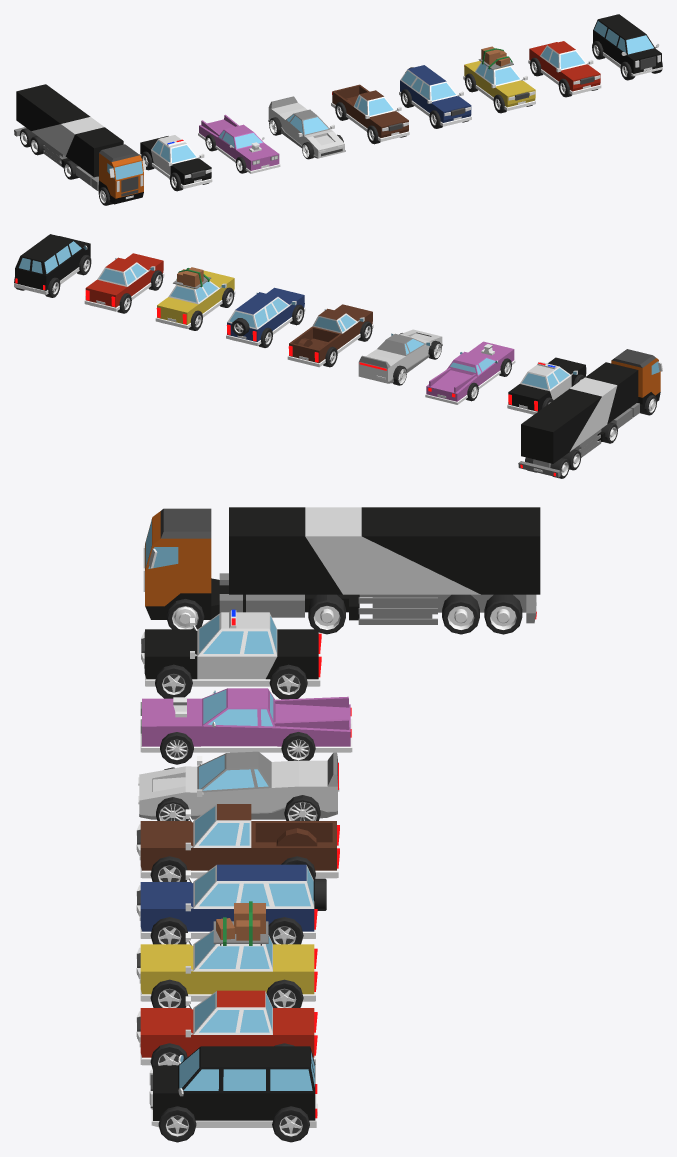
File: PACK_cars.fbx
3 views of the same model, one above another, from view 1: azimuth 30°, elevation 25°; view 2: azimuth 150°, elevation 25°; view 3: azimuth 270°, elevation 25° (orthographic). The views are drawn at different scales.
Parts seen in each view (by area): view 1: lorry cart, van, Plane.001, wheel_standart.002, wheel_standart.003, wheel_standart.004, Plane, car_model_5, body, body.004; view 2: lorry cart, van, wheel_standart.004, wheel_standart.002, car_model_5, wheel_standart.003, body, Plane, body.004, Plane.001; view 3: lorry cart, van, car_model_5, body.004, wheel_standart.002, Plane.001, wheel_standart.003, wheel_standart.004, Plane, body.
Boxes of the visible parts, x1=… form: lorry cart: x1=14, y1=84, x2=123, y2=177; van: x1=592, y1=14, x2=662, y2=80; Plane.001: x1=61, y1=144, x2=145, y2=205; wheel_standart.002: x1=463, y1=46, x2=535, y2=113; wheel_standart.003: x1=399, y1=65, x2=471, y2=128; wheel_standart.004: x1=331, y1=84, x2=409, y2=144; Plane: x1=268, y1=96, x2=345, y2=159; car_model_5: x1=198, y1=114, x2=280, y2=173; body: x1=528, y1=41, x2=601, y2=97; body.004: x1=139, y1=135, x2=212, y2=191; lorry cart: x1=518, y1=362, x2=638, y2=478; van: x1=14, y1=234, x2=91, y2=297; wheel_standart.004: x1=287, y1=304, x2=373, y2=367; wheel_standart.002: x1=155, y1=267, x2=235, y2=330; car_model_5: x1=425, y1=341, x2=515, y2=404; wheel_standart.003: x1=226, y1=287, x2=305, y2=347; body: x1=84, y1=253, x2=164, y2=313; Plane: x1=358, y1=329, x2=442, y2=385; body.004: x1=507, y1=357, x2=586, y2=414; Plane.001: x1=597, y1=349, x2=662, y2=443; lorry cart: x1=229, y1=507, x2=540, y2=634; van: x1=149, y1=1046, x2=317, y2=1142; car_model_5: x1=140, y1=688, x2=352, y2=764; body.004: x1=141, y1=609, x2=321, y2=699; wheel_standart.002: x1=136, y1=901, x2=317, y2=1007; Plane.001: x1=143, y1=508, x2=359, y2=634; wheel_standart.003: x1=136, y1=864, x2=326, y2=944; wheel_standart.004: x1=136, y1=804, x2=339, y2=881; Plane: x1=138, y1=751, x2=339, y2=820; body: x1=136, y1=990, x2=317, y2=1069.
Bounding box in the file's own units: 8544 × 726 × 2681.
